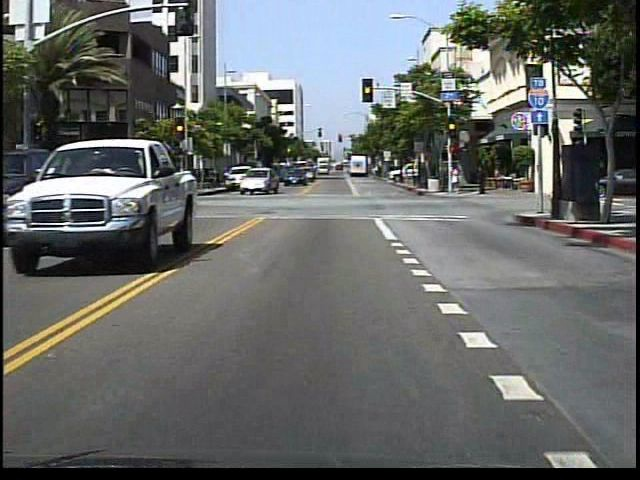person: (474, 163, 488, 197), (450, 162, 463, 197), (168, 167, 182, 196)
